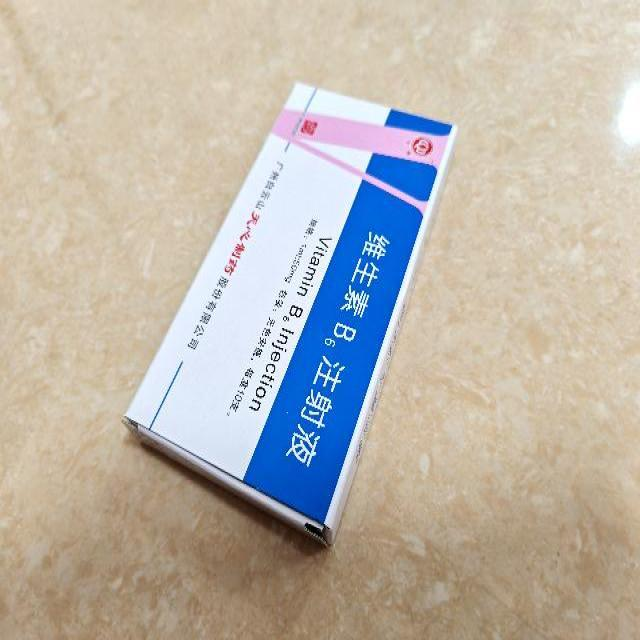box: (126, 80, 458, 547)
